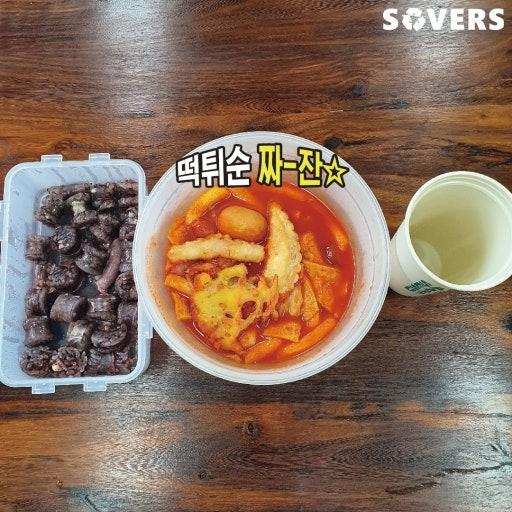Lunch Box: (133, 132, 389, 384), (0, 154, 152, 393), (389, 171, 511, 296)
